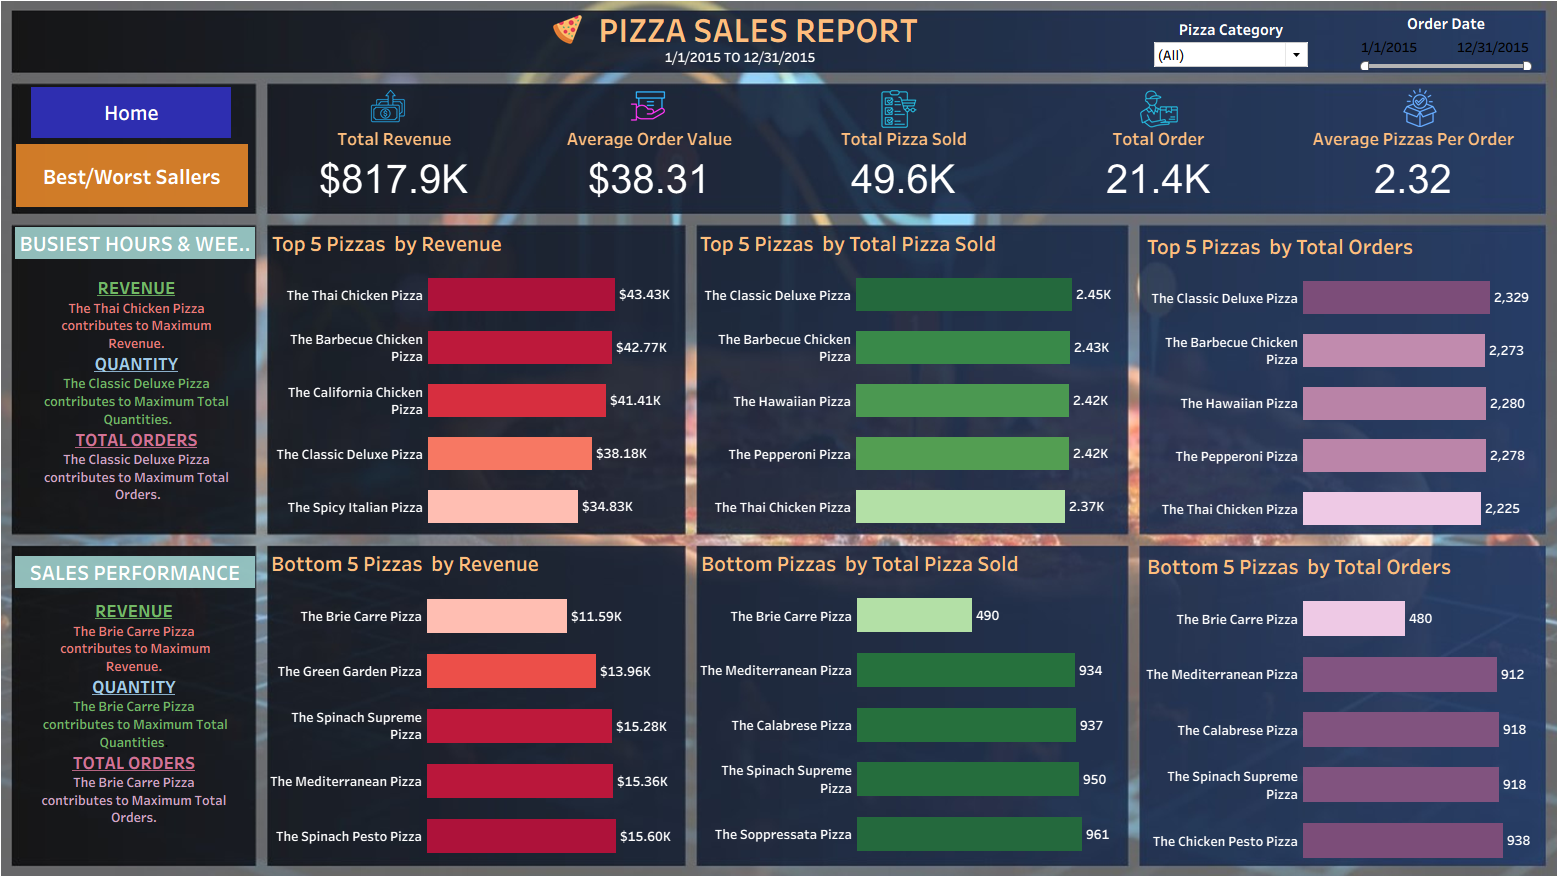

What the dashboard file says about the page in this screenshot:
{"tool":"tableau","page":{"name":"Best & Worst sallers","canvas":[1600,900],"ordinal":0},"visuals":[{"type":"image","param":"Image/Pizza Tableau 2.jpg","box":[8,8,1584,884]},{"type":"text","box":[615,22,327,36]},{"type":"filter","title":"Dtae range","param":"[federated.1kwuepl01cmklk15xugt21ft2c5y].[none:order_date:qk]","box":[1376,24,180,57]},{"type":"image","param":"Image/pizza-slice.png","box":[564,25,46,30]},{"type":"filter","title":"Dtae range","param":"[federated.1kwuepl01cmklk15xugt21ft2c5y].[none:pizza_category:nk]","box":[1171,30,160,49]},{"type":"worksheet","title":"Dtae range","mark":"Automatic","box":[584,58,351,21]},{"type":"image","param":"Image/profit-growth.png","box":[378,97,60,39]},{"type":"image","param":"Image/shipping-box.png","box":[638,97,60,39]},{"type":"dashboard-object","box":[51,98,200,51]},{"type":"image","param":"Image/order (1).png","box":[1410,99,60,39]},{"type":"image","param":"Image/order-delivery.png","box":[889,100,60,39]},{"type":"image","param":"Image/delivery-man.png","box":[1149,100,60,39]},{"type":"worksheet","title":"KPI's","mark":"Automatic","box":[287,139,1274,84]},{"type":"dashboard-object","box":[36,155,232,63]},{"type":"worksheet","title":"Top 5 Pizzas  by Revenue","mark":"Automatic","rows":["pizza_name"],"cols":["Calculation_1576726769516544"],"box":[288,236,415,308]},{"type":"worksheet","title":"Top 5 Pizzas  by Total Pizza Sold","mark":"Automatic","rows":["pizza_name"],"cols":["Calculation_1576726770511875"],"box":[716,236,431,308]},{"type":"text","box":[35,238,240,32]},{"type":"worksheet","title":"Top 5 Pizzas  by Total Orders","mark":"Automatic","rows":["pizza_name"],"cols":["Calculation_1576726770200578"],"box":[1163,239,400,307]},{"type":"text","box":[35,276,243,252]},{"type":"worksheet","title":"Bottom 5 Pizzas  by Revenue ","mark":"Automatic","rows":["pizza_name"],"cols":["Calculation_1576726769516544"],"box":[287,556,417,318]},{"type":"worksheet","title":"Bottom Pizzas  by Total Pizza Sold ","mark":"Automatic","rows":["pizza_name"],"cols":["Calculation_1576726770511875"],"box":[717,556,428,316]},{"type":"worksheet","title":"Bottom 5 Pizzas  by Total Orders","mark":"Automatic","rows":["pizza_name"],"cols":["Calculation_1576726770200578"],"box":[1163,559,402,320]},{"type":"text","box":[35,567,240,32]},{"type":"text","box":[34,604,240,242]}]}

Visuals, with their boxes in screenshot pixels (x1, y1, x2, y2), scaled from the page's 1600x900 canvas onto the 1557x876 screenshot:
image: pyautogui.locateOnScreen(8, 8, 1549, 868)
text: pyautogui.locateOnScreen(598, 21, 917, 56)
"Dtae range" filter: pyautogui.locateOnScreen(1339, 23, 1514, 79)
image: pyautogui.locateOnScreen(549, 24, 594, 54)
"Dtae range" filter: pyautogui.locateOnScreen(1140, 29, 1295, 77)
"Dtae range" worksheet: pyautogui.locateOnScreen(568, 56, 910, 77)
image: pyautogui.locateOnScreen(368, 94, 426, 132)
image: pyautogui.locateOnScreen(621, 94, 679, 132)
dashboard-object: pyautogui.locateOnScreen(50, 95, 244, 145)
image: pyautogui.locateOnScreen(1372, 96, 1430, 134)
image: pyautogui.locateOnScreen(865, 97, 923, 135)
image: pyautogui.locateOnScreen(1118, 97, 1177, 135)
"KPI's" worksheet: pyautogui.locateOnScreen(279, 135, 1519, 217)
dashboard-object: pyautogui.locateOnScreen(35, 151, 261, 212)
"Top 5 Pizzas  by Revenue" worksheet: pyautogui.locateOnScreen(280, 230, 684, 529)
"Top 5 Pizzas  by Total Pizza Sold" worksheet: pyautogui.locateOnScreen(697, 230, 1116, 529)
text: pyautogui.locateOnScreen(34, 232, 268, 263)
"Top 5 Pizzas  by Total Orders" worksheet: pyautogui.locateOnScreen(1132, 233, 1521, 531)
text: pyautogui.locateOnScreen(34, 269, 271, 514)
"Bottom 5 Pizzas  by Revenue " worksheet: pyautogui.locateOnScreen(279, 541, 685, 851)
"Bottom Pizzas  by Total Pizza Sold " worksheet: pyautogui.locateOnScreen(698, 541, 1114, 849)
"Bottom 5 Pizzas  by Total Orders" worksheet: pyautogui.locateOnScreen(1132, 544, 1523, 856)
text: pyautogui.locateOnScreen(34, 552, 268, 583)
text: pyautogui.locateOnScreen(33, 588, 267, 823)
